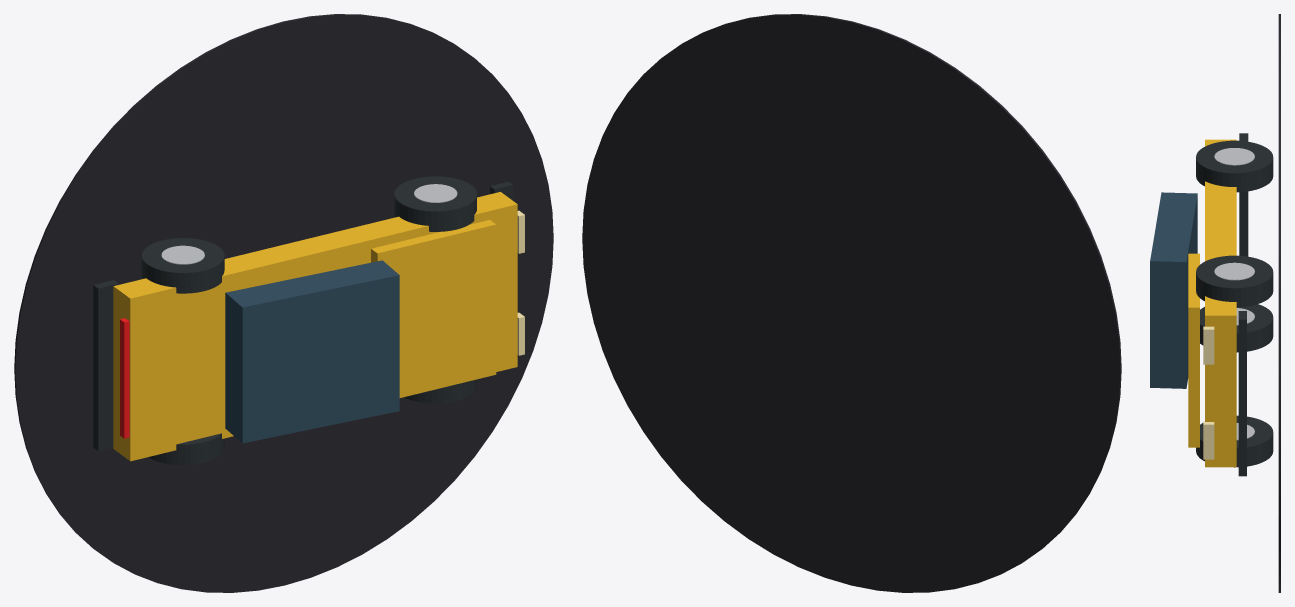
File: lamborghini-revuelto.glb
3 views of the same model, side by side, from view 1: azimuth 30°, elevation 25°; view 2: azimuth 150°, elevation 25°; view 3: azimuth 270°, elevation 25° (orthographic). The views are drawn at different scales.
Parts seen in each view (by area): view 1: world; view 2: world; view 3: world.
Boxes of the visible parts, x1,y1,x2,y2 form: world: (14, 14, 553, 592); world: (582, 14, 1121, 592); world: (1150, 14, 1280, 592).
Bounding box in the file's own units: 6.3 × 6.3 × 1.42.
